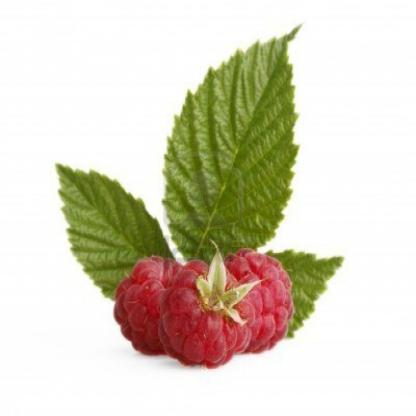Raspberry leaf: (166, 17, 303, 271), (54, 160, 178, 300)
